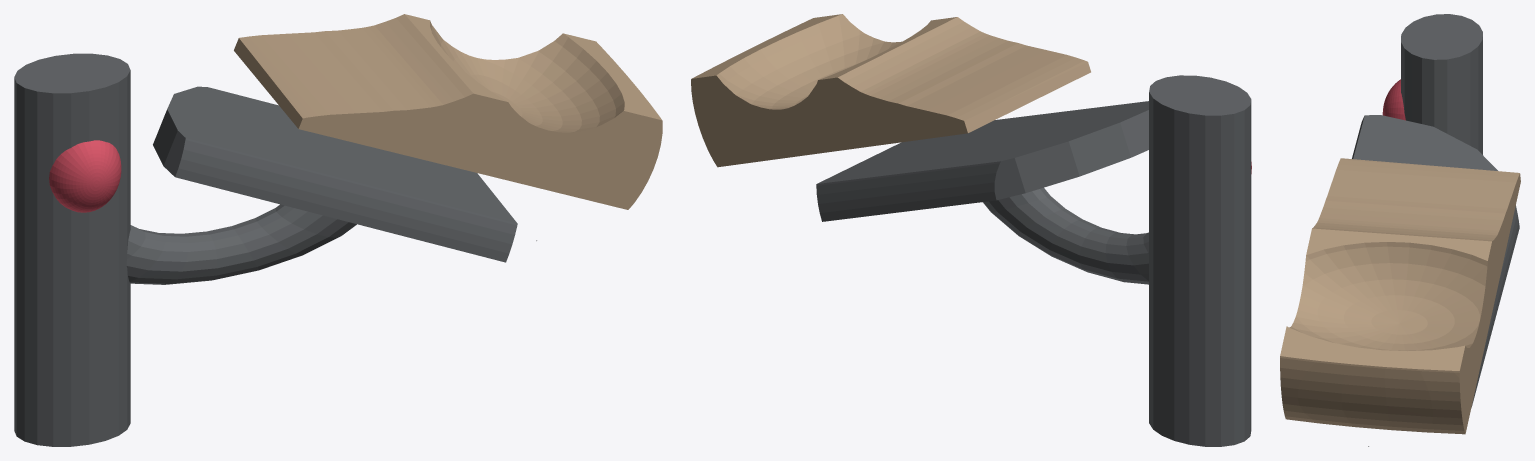
Rendered from Brake.glb.
The picture shows the model from 3 angles, left to right: view 1: azimuth 30°, elevation 25°; view 2: azimuth 150°, elevation 25°; view 3: azimuth 270°, elevation 25°; orthographic projection. The views are drawn at different scales.
Parts seen in each view (by area): view 1: Mesh_Mesh_head_geo.001_lambert2SG.001; view 2: Mesh_Mesh_head_geo.001_lambert2SG.001; view 3: Mesh_Mesh_head_geo.001_lambert2SG.001.
Part boxes in pixels (<box>): Mesh_Mesh_head_geo.001_lambert2SG.001: <box>14,14,662,446</box>; Mesh_Mesh_head_geo.001_lambert2SG.001: <box>691,14,1251,446</box>; Mesh_Mesh_head_geo.001_lambert2SG.001: <box>1280,14,1520,446</box>.
Size of the model in its own units: 67.54 by 39 by 26.36.
